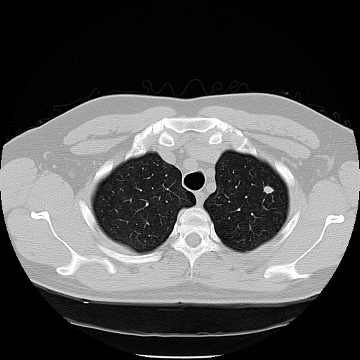PN: (263, 184, 273, 194)
